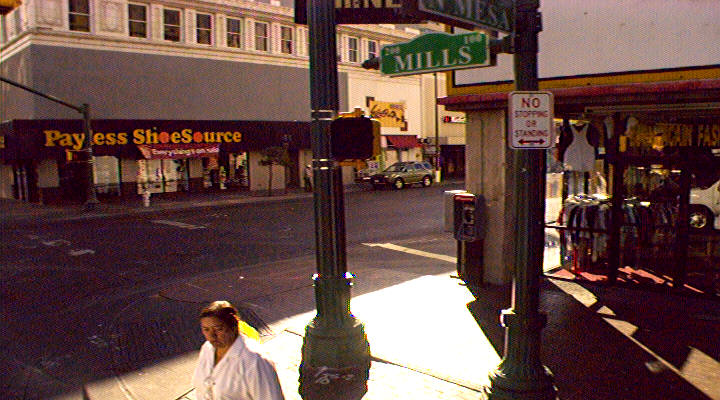Ramp: (51, 284, 288, 400)
